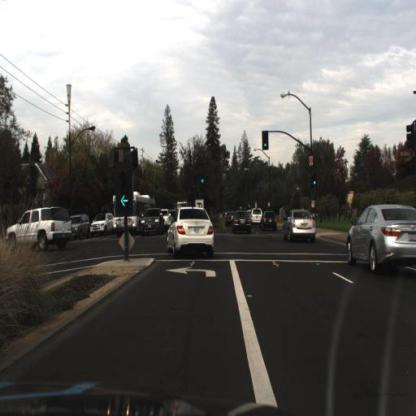car: (346, 202, 416, 277), (6, 205, 72, 254), (166, 209, 216, 258), (282, 209, 319, 245), (90, 211, 115, 238), (69, 211, 91, 241), (232, 208, 254, 236), (261, 208, 279, 234), (254, 206, 264, 228), (227, 209, 237, 227)
trafficLight: (263, 129, 270, 154), (201, 170, 206, 186)
trafficLight-Green: (312, 171, 318, 187)
trafficLight-GreenLeft: (116, 169, 134, 218)
truck: (110, 193, 158, 236)
